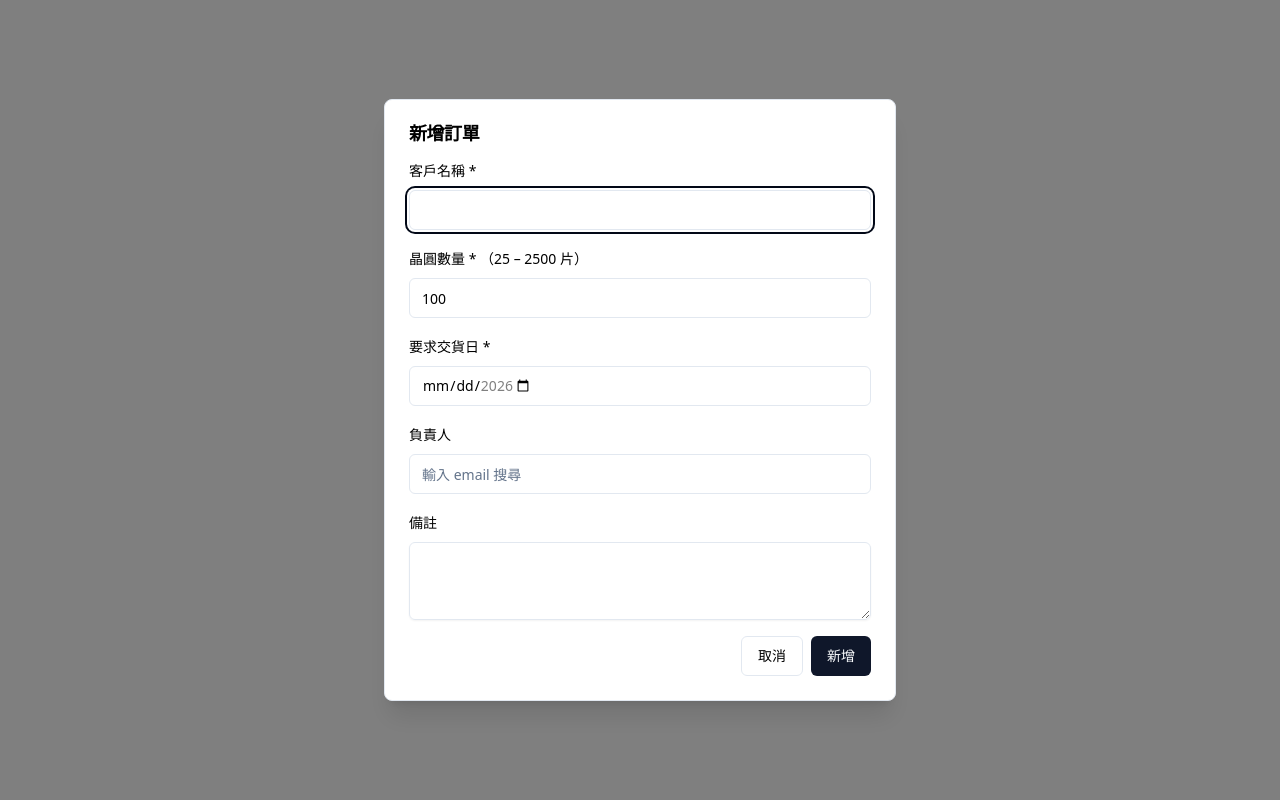
Scenario: OrderModal › create mode: shows validation errors when submitted empty
This screenshot has width=1280, height=800.
What coordinates should you click on to do the following:
click the button "新增"
I would click on:
 (841, 656)
Its box is [811,636,871,676].
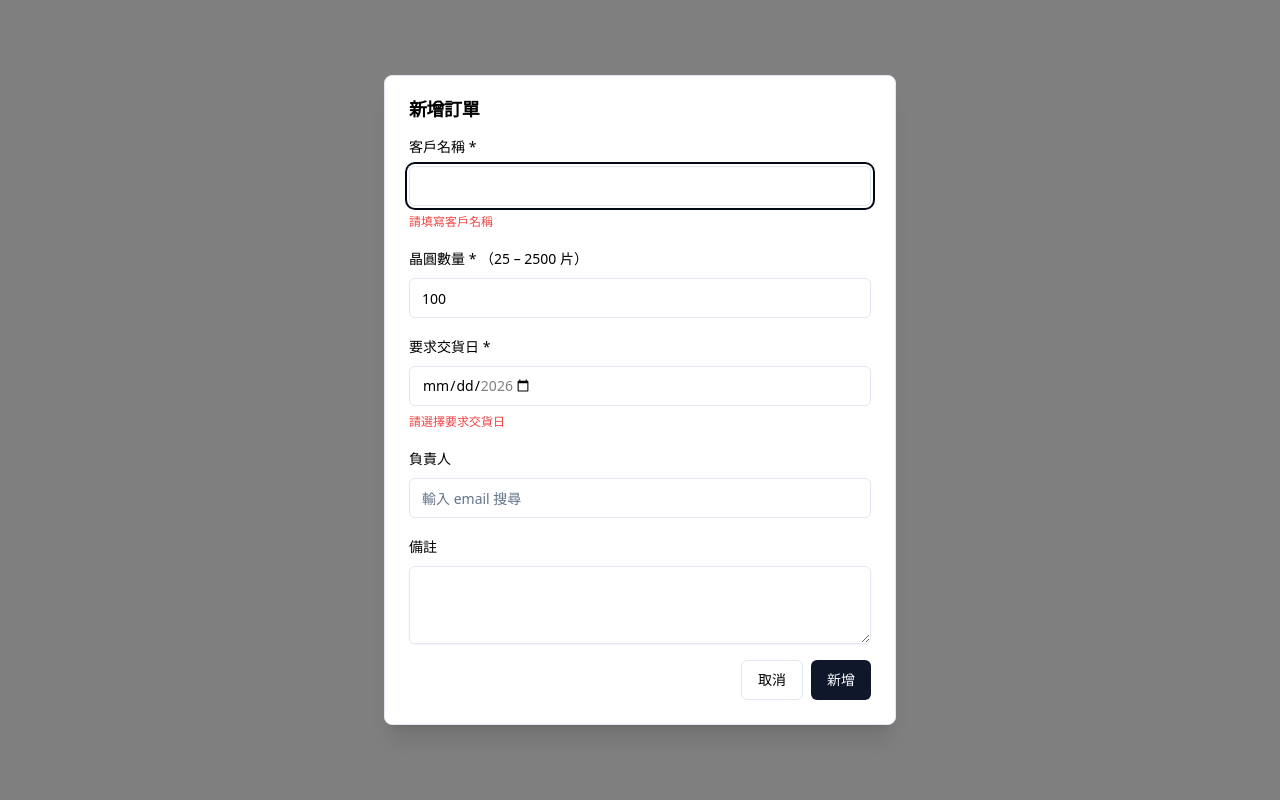
Expected: the text "請填寫客戶名稱" is shown, [409,213,493,230]
Expected: the text "請選擇要求交貨日" is shown, [409,413,505,430]
